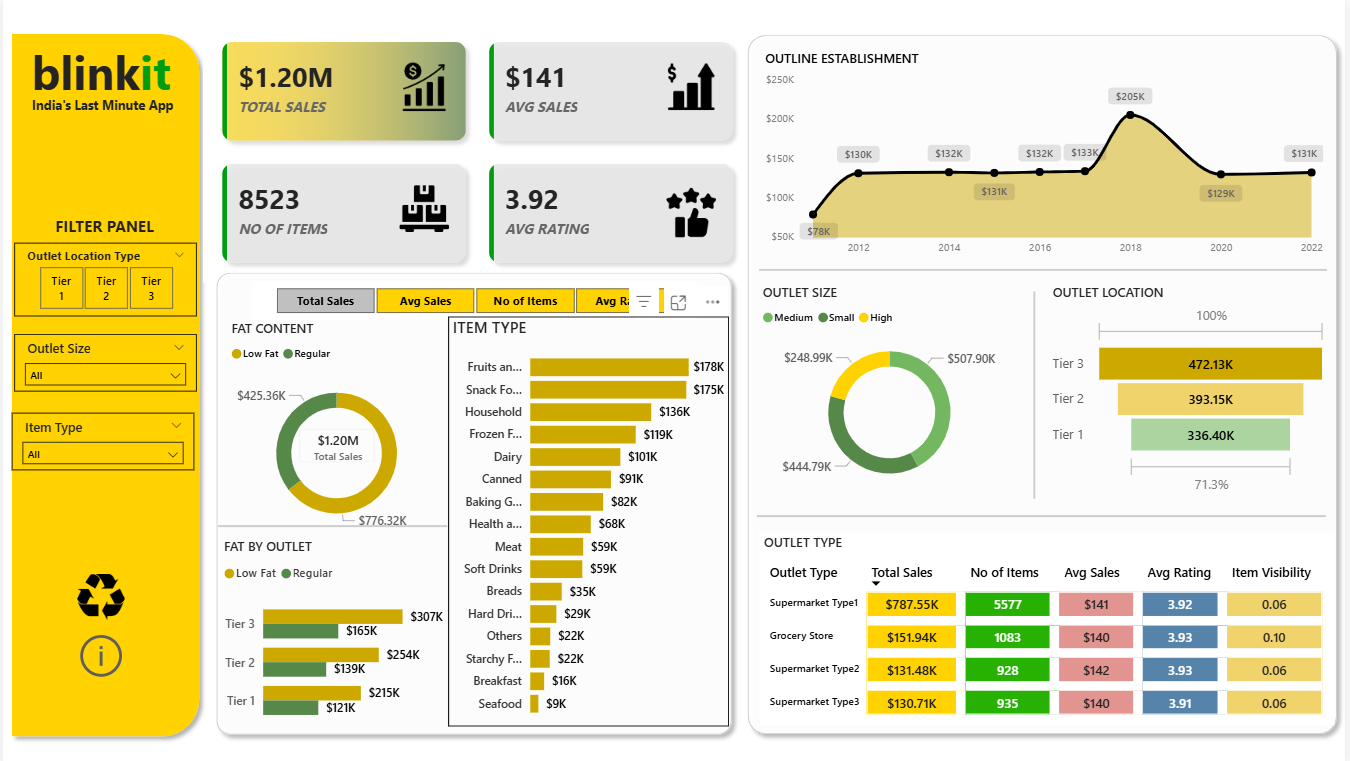

This screenshot's page, from the dashboard's own definition file:
{"tool":"powerbi","page":{"name":"Page 1","canvas":[1400,800],"ordinal":0},"visuals":[{"type":"shape","box":[0,27.4,213.8,751],"z":0},{"type":"textbox","box":[18,38.4,168.7,76.7],"z":1000},{"type":"textbox","box":[13.8,96.4,179.4,30.7],"z":2000},{"type":"cardVisual","fields":{"Data":["BlinkIT Grocery Data.Total Sales","BlinkIT Grocery Data.Avg Sales","BlinkIT Grocery Data.No of Items","BlinkIT Grocery Data.Avg Rating"]},"box":[209,24.8,572.4,271.2],"z":3000},{"type":"shape","box":[213.2,276.1,555.2,500],"z":4000},{"type":"donutChart","title":"FAT CONTENT","fields":{"Y":["BlinkIT Grocery Data.Total Sales"],"Category":["BlinkIT Grocery Data.Item Fat Content"]},"box":[233.4,333.8,229.5,234.7],"z":5000},{"type":"slicer","fields":{"Values":["Metrics.Metrics"]},"box":[259.2,294.5,464.7,39.9],"z":6000},{"type":"cardVisual","fields":{"Data":["BlinkIT Grocery Data.Total Sales"]},"box":[291.4,431,113.5,69],"z":7000},{"type":"clusteredBarChart","title":"FAT BY OUTLET","fields":{"Y":["BlinkIT Grocery Data.Total Sales"],"Category":["BlinkIT Grocery Data.Outlet Location Type"],"Series":["BlinkIT Grocery Data.Item Fat Content"]},"box":[225.6,556.7,238.6,207.3],"z":8000},{"type":"shape","box":[458.6,331.3,12.3,427.9],"z":9000},{"type":"barChart","title":"ITEM TYPE","fields":{"Y":["BlinkIT Grocery Data.Total Sales"],"Category":["BlinkIT Grocery Data.Item Type"]},"box":[464.7,331.3,292.9,427.9],"z":10000},{"type":"shape","box":[767.9,28.7,632.3,747.1],"z":11000},{"type":"lineChart","title":"OUTLINE ESTABLISHMENT","fields":{"Category":["BlinkIT Grocery Data.Outlet Establishment Year"],"Y":["BlinkIT Grocery Data.Total Sales"]},"box":[789.9,52.1,592,223.9],"z":12000},{"type":"shape","box":[223.9,544,239.3,12.3],"z":13000},{"type":"donutChart","title":"OUTLET SIZE","fields":{"Y":["BlinkIT Grocery Data.Total Sales"],"Category":["BlinkIT Grocery Data.Outlet Size"]},"box":[788,296,274.5,225.5],"z":14000},{"type":"shape","box":[1066,305.2,18.4,216.3],"z":15000},{"type":"funnel","title":"OUTLET LOCATION","fields":{"Y":["Sum(BlinkIT Grocery Data.Sales)"],"Category":["BlinkIT Grocery Data.Outlet Location Type"]},"box":[1090.5,296,296,225.5],"z":16000},{"type":"shape","box":[788.3,276.1,592,12.3],"z":17000},{"type":"shape","box":[786.8,533.7,593.6,12.3],"z":18000},{"type":"pivotTable","title":"OUTLET TYPE","fields":{"Rows":["BlinkIT Grocery Data.Outlet Type"],"Values":["BlinkIT Grocery Data.Total Sales","BlinkIT Grocery Data.No of Items","BlinkIT Grocery Data.Avg Sales","BlinkIT Grocery Data.Avg Rating","Avg(BlinkIT Grocery Data.Item Visibility)"]},"box":[788.3,556.7,599.7,200.9],"z":19000},{"type":"slicer","fields":{"Values":["BlinkIT Grocery Data.Outlet Location Type"]},"box":[12,254,190.4,76.9],"z":20000},{"type":"slicer","fields":{"Values":["BlinkIT Grocery Data.Outlet Size"]},"box":[11.7,349.4,190.4,60],"z":21000},{"type":"slicer","fields":{"Values":["BlinkIT Grocery Data.Item Type"]},"box":[9.1,431.6,190.4,60],"z":21001},{"type":"textbox","box":[44.3,220.3,123.9,33.9],"z":21002},{"type":"actionButton","box":[74.3,657.1,57.4,56.1],"z":21003},{"type":"image","box":[71.7,599.7,61.3,48.2],"z":21004}]}

Visuals, with their boxes in screenshot pixels (x1, y1, x2, y2), scaled from the page's 1400x800 canvas onto the 1350x761 screenshot:
shape: box=[0, 26, 206, 740]
textbox: box=[17, 37, 180, 109]
textbox: box=[13, 92, 186, 121]
cardVisual - BlinkIT Grocery Data.Total Sales x BlinkIT Grocery Data.Avg Sales: box=[202, 24, 753, 282]
shape: box=[206, 263, 741, 738]
"FAT CONTENT" donutChart: box=[225, 318, 446, 541]
slicer - Metrics.Metrics: box=[250, 280, 698, 318]
cardVisual - BlinkIT Grocery Data.Total Sales: box=[281, 410, 390, 476]
"FAT BY OUTLET" clusteredBarChart: box=[218, 530, 448, 727]
shape: box=[442, 315, 454, 722]
"ITEM TYPE" barChart: box=[448, 315, 731, 722]
shape: box=[740, 27, 1349, 738]
"OUTLINE ESTABLISHMENT" lineChart: box=[762, 50, 1333, 263]
shape: box=[216, 517, 447, 529]
"OUTLET SIZE" donutChart: box=[760, 282, 1025, 496]
shape: box=[1028, 290, 1046, 496]
"OUTLET LOCATION" funnel: box=[1052, 282, 1337, 496]
shape: box=[760, 263, 1331, 274]
shape: box=[759, 508, 1331, 519]
"OUTLET TYPE" pivotTable: box=[760, 530, 1338, 721]
slicer - BlinkIT Grocery Data.Outlet Location Type: box=[12, 242, 195, 315]
slicer - BlinkIT Grocery Data.Outlet Size: box=[11, 332, 195, 389]
slicer - BlinkIT Grocery Data.Item Type: box=[9, 411, 192, 468]
textbox: box=[43, 210, 162, 242]
actionButton: box=[72, 625, 127, 678]
image: box=[69, 570, 128, 616]
